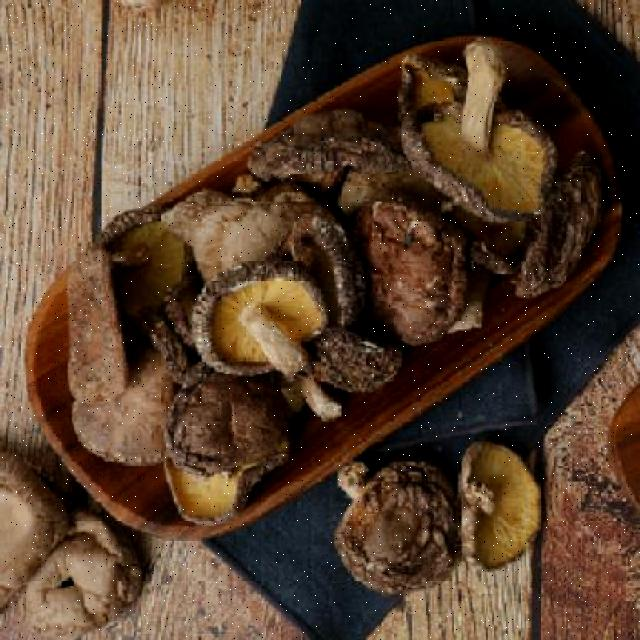Mushroom: (373, 25, 575, 249), (177, 262, 352, 393)
